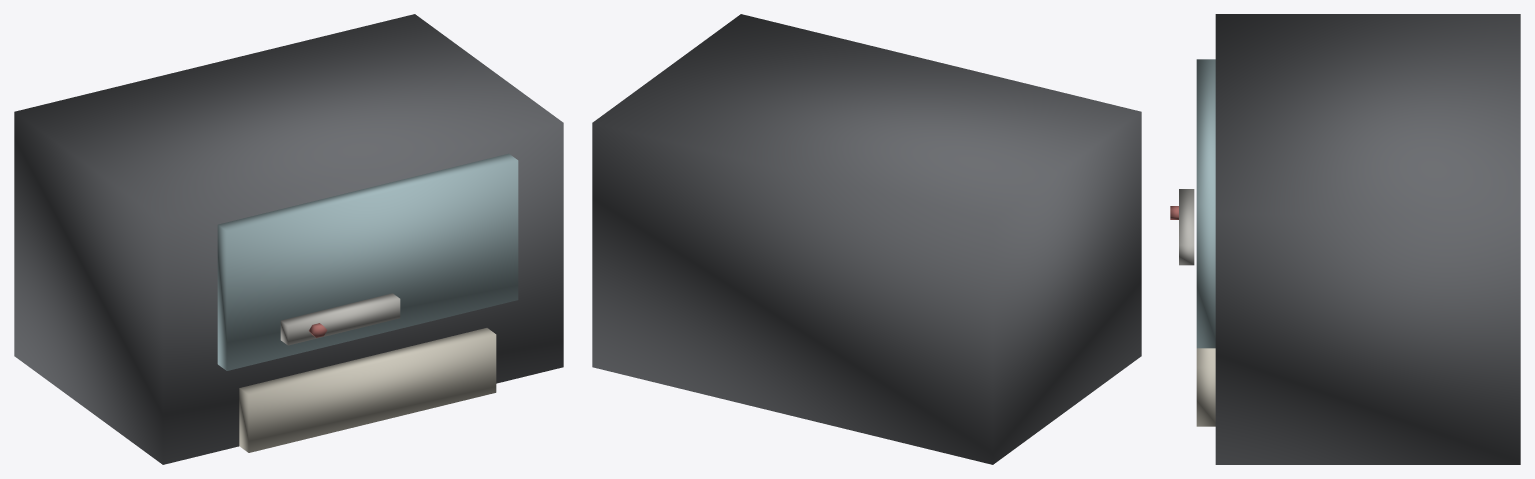
The model's file is microfilm_reader__squat.glb.
3 renders of one model, left to right at view 1: azimuth 30°, elevation 25°; view 2: azimuth 150°, elevation 25°; view 3: azimuth 270°, elevation 25°, orthographic. The views are drawn at different scales.
Visible parts, largest first — view 1: world; view 2: world; view 3: world.
Boxes of the visible parts, x1,y1,x2,y2 form: world: (14, 14, 563, 464); world: (592, 14, 1141, 464); world: (1170, 14, 1520, 464).
Size of the model in its own units: 0.605 by 0.3528 by 0.4466.
